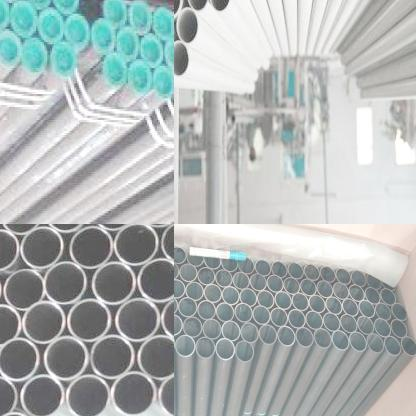pipe: (43, 336, 90, 380), (114, 298, 160, 342), (112, 372, 156, 416), (90, 334, 134, 378), (66, 298, 110, 342), (43, 262, 88, 304), (92, 262, 137, 304), (23, 301, 66, 344), (70, 226, 113, 269), (66, 374, 110, 416), (113, 224, 158, 265), (21, 374, 64, 416), (20, 226, 63, 268), (0, 338, 40, 381), (137, 335, 174, 379), (4, 270, 44, 310), (138, 258, 174, 302), (7, 0, 40, 39), (36, 6, 67, 44), (125, 58, 154, 98), (20, 36, 48, 76), (50, 40, 78, 78), (89, 19, 118, 55), (100, 53, 128, 90), (64, 12, 92, 49), (126, 0, 154, 37), (138, 34, 165, 70), (114, 26, 140, 62), (0, 29, 23, 69), (0, 305, 21, 347), (151, 63, 174, 101), (176, 8, 198, 44), (101, 0, 130, 27), (151, 5, 174, 39), (0, 229, 19, 270), (0, 377, 18, 416), (158, 373, 174, 416), (161, 296, 174, 340), (174, 40, 189, 76), (161, 224, 174, 264), (174, 335, 196, 358), (182, 316, 204, 339), (195, 336, 216, 360), (202, 318, 223, 341), (162, 35, 174, 75), (233, 302, 254, 324), (234, 340, 254, 363), (215, 338, 235, 361), (240, 322, 260, 344), (196, 300, 216, 322), (178, 296, 198, 318), (0, 224, 42, 234), (295, 326, 314, 348), (259, 324, 278, 346), (222, 320, 241, 342), (252, 304, 271, 326), (304, 310, 324, 330), (204, 283, 223, 304), (384, 334, 402, 356), (314, 328, 332, 350), (278, 326, 296, 348), (288, 308, 306, 330), (270, 306, 288, 328), (216, 301, 234, 323), (179, 263, 198, 283), (45, 224, 87, 233), (366, 333, 384, 354), (332, 330, 350, 351), (322, 312, 340, 333), (274, 290, 292, 311), (222, 285, 240, 306), (349, 332, 367, 352), (374, 318, 392, 338), (340, 314, 358, 334), (358, 300, 376, 320), (292, 292, 310, 312), (257, 289, 275, 309), (240, 288, 258, 308), (186, 281, 204, 301), (332, 281, 350, 301), (266, 274, 284, 294), (215, 268, 233, 288), (197, 266, 215, 286), (357, 315, 374, 336), (375, 301, 392, 322), (299, 278, 317, 297), (249, 273, 267, 292), (232, 271, 250, 290), (390, 319, 407, 339), (342, 298, 359, 318), (309, 294, 326, 314), (51, 0, 79, 12), (316, 280, 334, 298), (254, 259, 272, 277), (221, 256, 239, 274), (187, 250, 205, 268), (283, 276, 300, 295), (391, 302, 407, 322), (326, 296, 342, 316), (320, 264, 336, 284), (401, 335, 416, 356), (0, 0, 10, 31), (287, 262, 304, 280), (271, 260, 288, 278), (238, 258, 255, 276), (204, 254, 222, 271), (349, 284, 365, 303), (350, 269, 366, 288), (304, 263, 320, 282), (380, 288, 396, 306), (365, 286, 381, 304), (366, 274, 384, 290), (336, 268, 352, 286), (208, 0, 230, 12), (187, 0, 209, 12), (174, 278, 185, 299), (174, 245, 186, 264), (26, 0, 51, 9), (174, 313, 183, 336), (174, 260, 179, 281)
